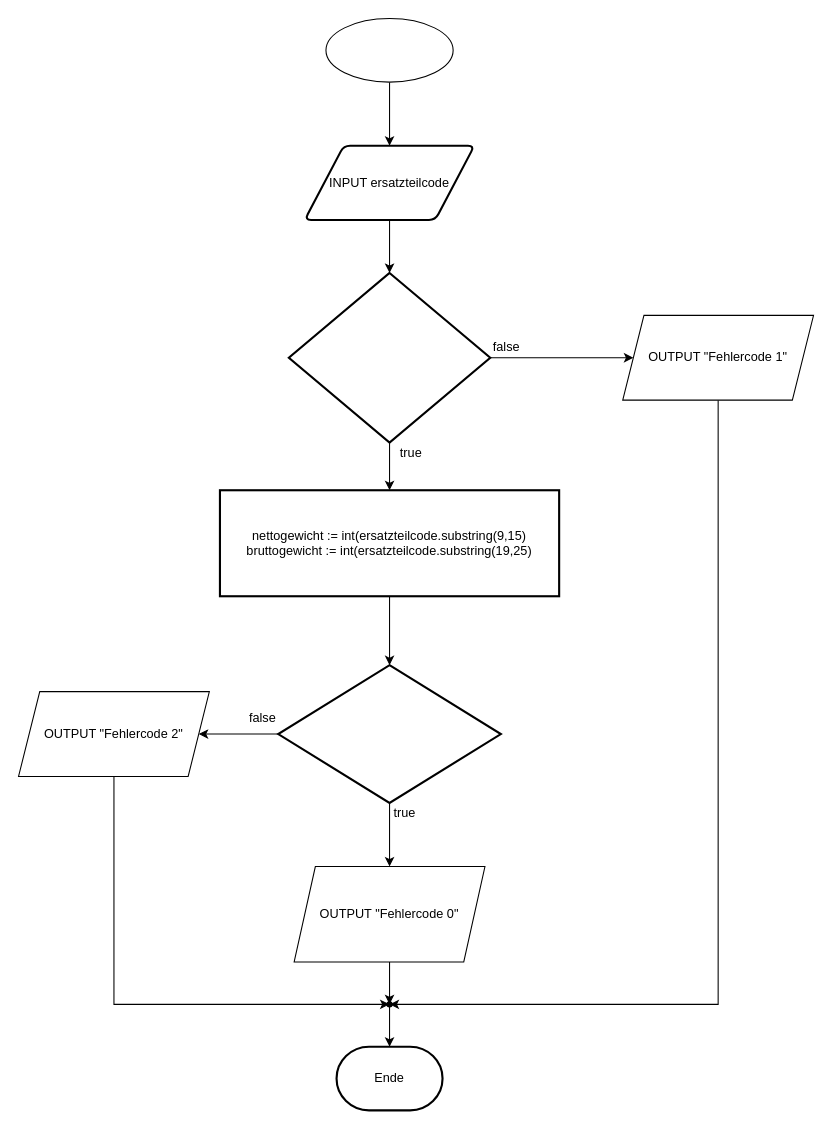
Image size: 832x1130. Some labels were removed from this diagram. The shapes that lost their labels are listed below. From the top down, each one's centre as x and y in pixels, then its label:
(389,49): Start
(389,357): ersatzteilcode.matches("[0-9]+")
(389,733): nettogewicht <= bruttogewicht
